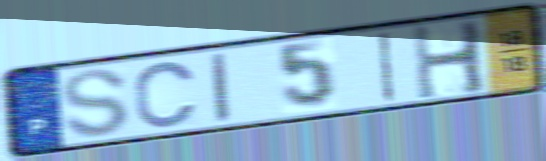5: (274, 37, 341, 115)
C: (132, 59, 201, 130)
H: (409, 16, 492, 104)
I: (208, 49, 233, 125), (377, 29, 398, 105)
S: (59, 67, 132, 140)
